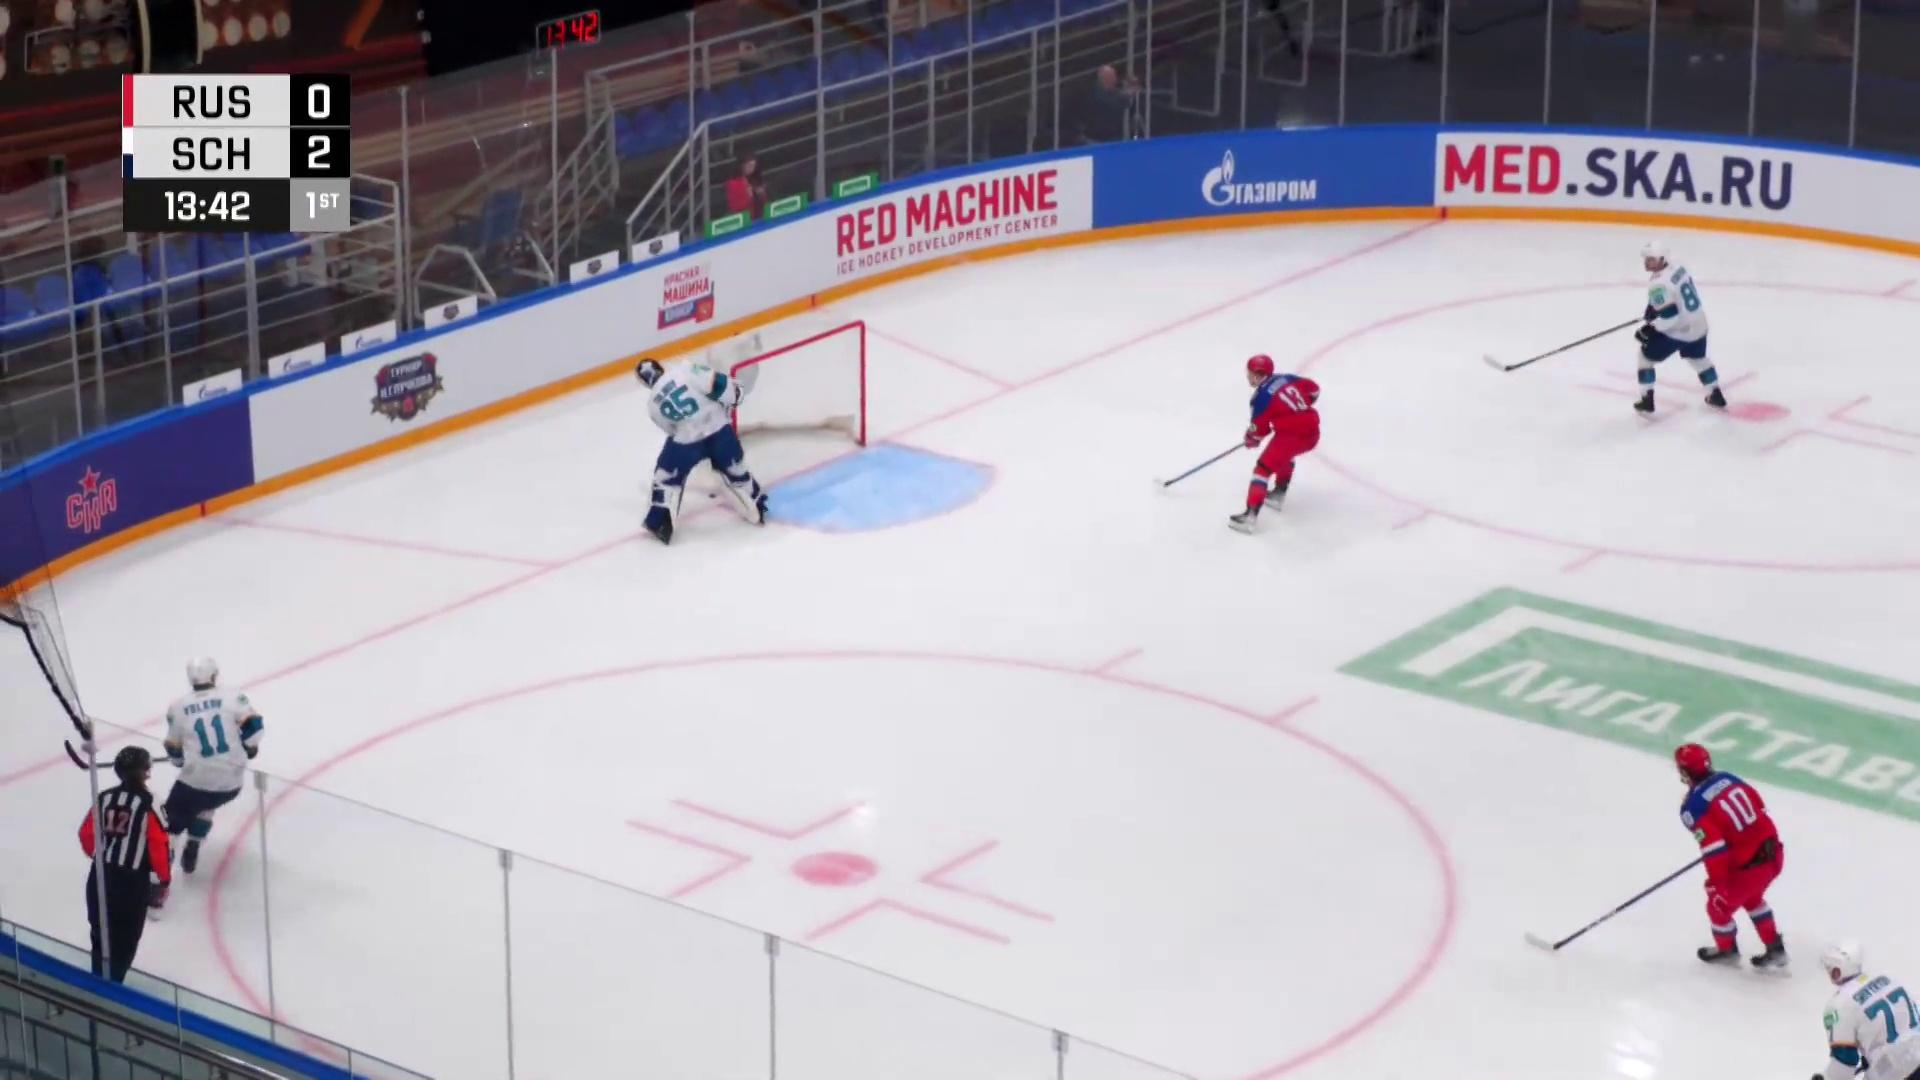ball: (709, 493, 717, 500)
